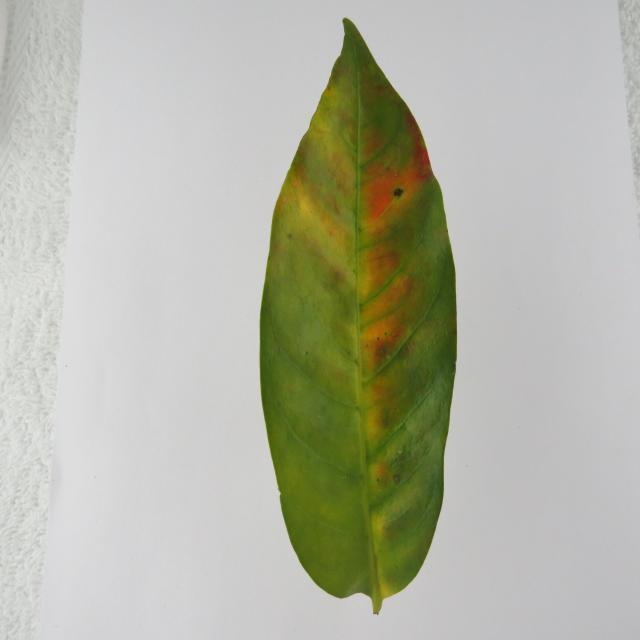DeficienciaNutricional-Fosforo: (260, 18, 456, 613)
